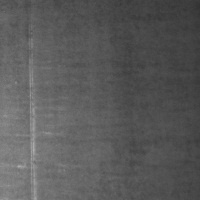scratches: (26, 34, 40, 200)
